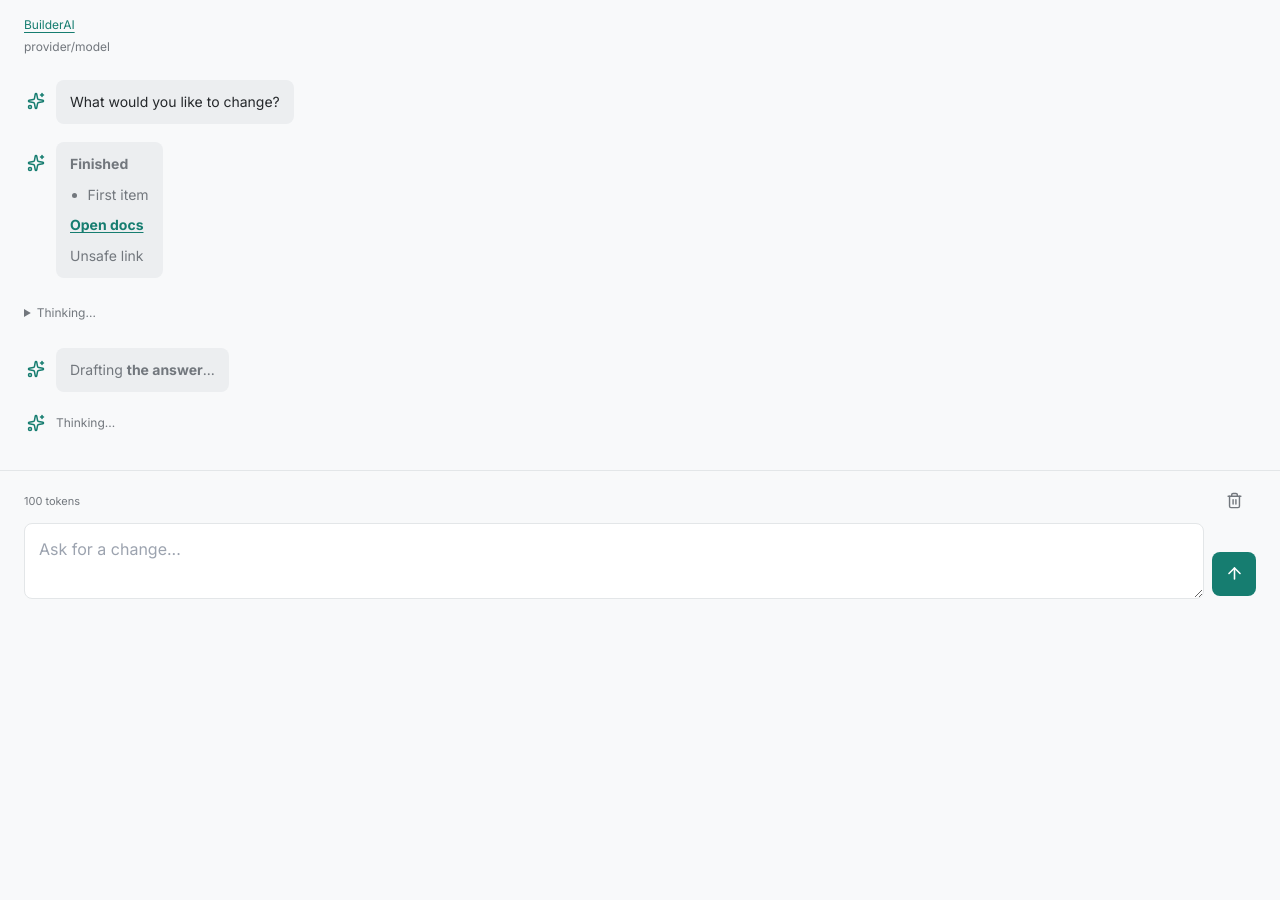
Test: renders safe assistant Markdown and collapsed live reasoning
expect the list item "First item" is shown: met, box [88,183,149,206]
Click the heading "Thinking...": {"x": 66, "y": 312} [37,305,96,320]
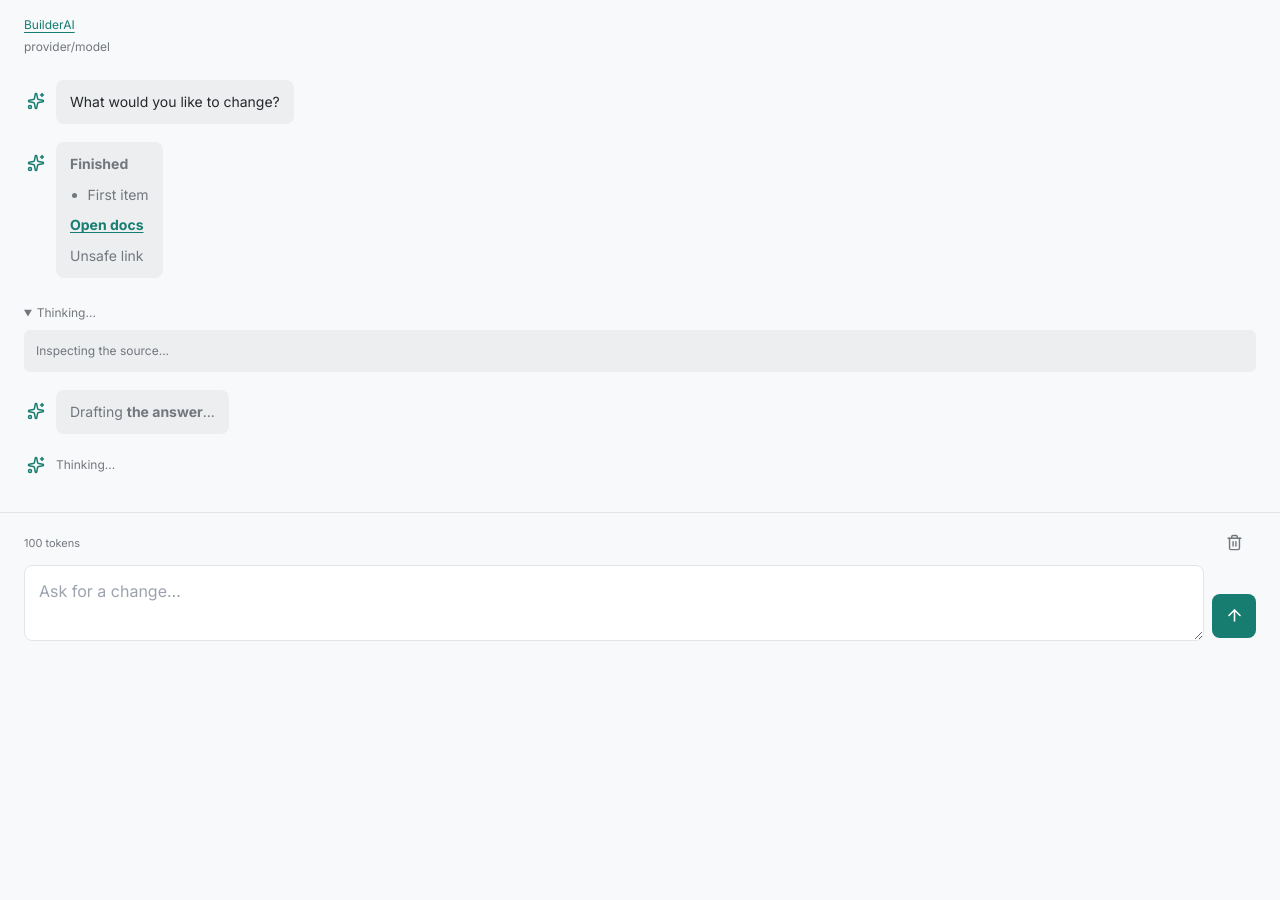
expect the text "Inspecting the source..." is shown: met, box [24,330,1256,372]
